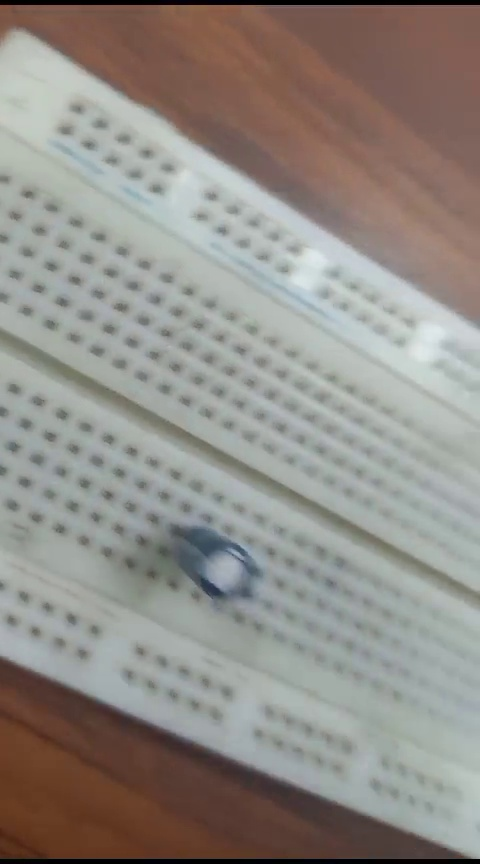capacitor: (167, 517, 264, 611)
